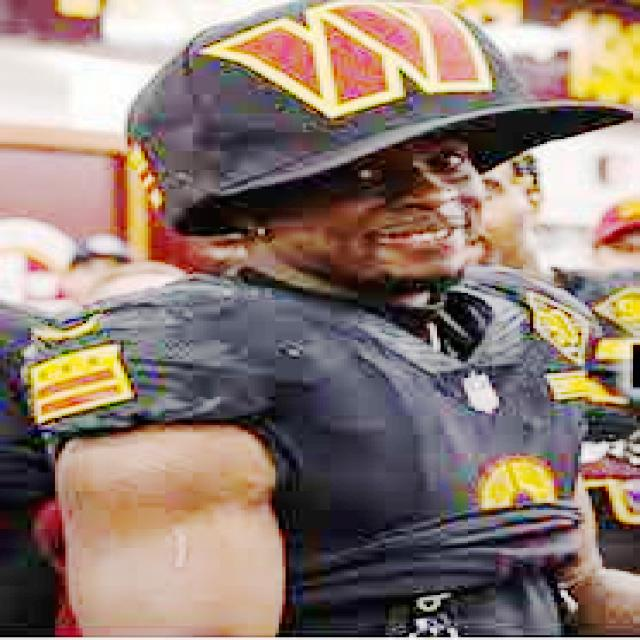TOPI: (106, 0, 630, 234)
